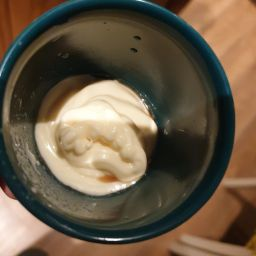Mayonnaise: (36, 74, 155, 190)
